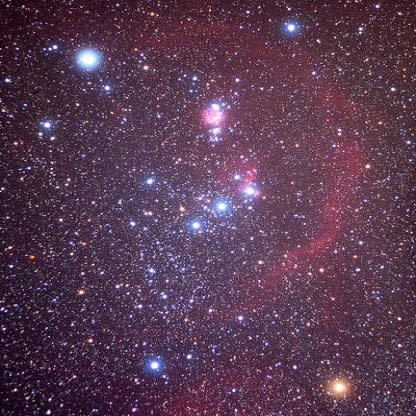Orion: (310, 362, 354, 405), (67, 39, 106, 72), (142, 352, 176, 385), (207, 187, 233, 220), (178, 210, 205, 237), (238, 176, 261, 201), (275, 15, 297, 36)
